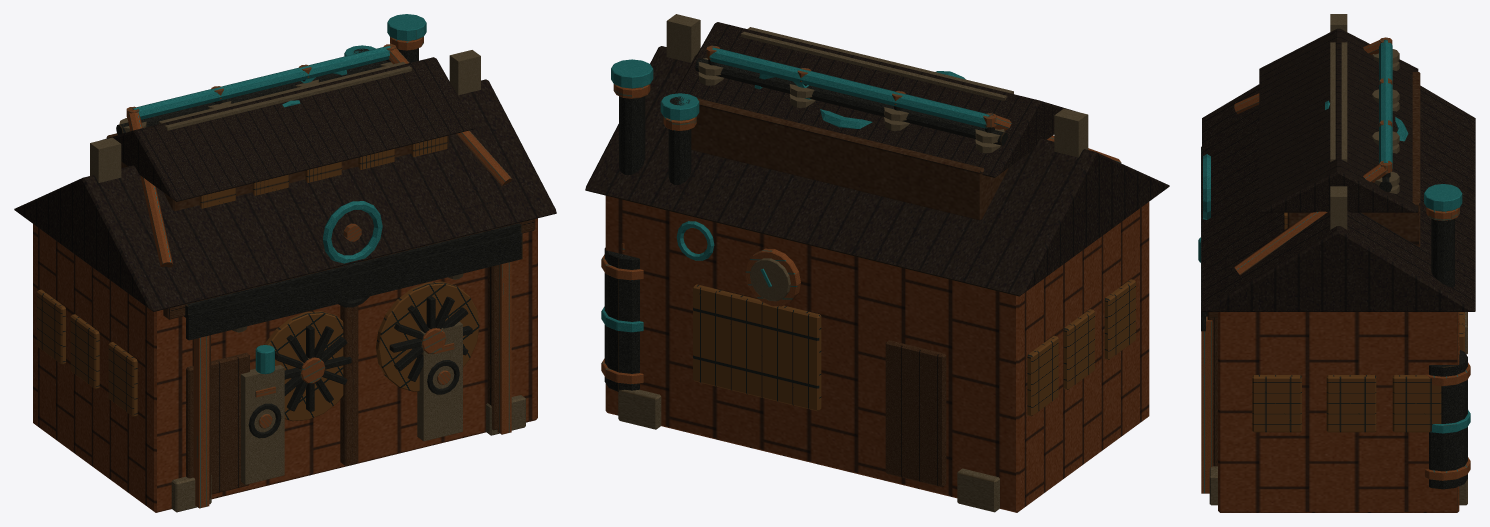
The model's file is dynamo-hall.e4.glb.
The picture shows the model from 3 angles, left to right: view 1: azimuth 30°, elevation 25°; view 2: azimuth 150°, elevation 25°; view 3: azimuth 270°, elevation 25°; orthographic projection. The views are drawn at different scales.
Parts seen in each view (by area): view 1: DynamoHallE4; view 2: DynamoHallE4; view 3: DynamoHallE4.
Boxes of the visible parts, x1,y1,x2,y2 form: DynamoHallE4: [14, 14, 556, 512]; DynamoHallE4: [585, 14, 1169, 512]; DynamoHallE4: [1198, 14, 1475, 512].
Bounding box in the file's own units: 5.38 × 4.15 × 3.24.
Materials: 1 (1 with a texture image).
